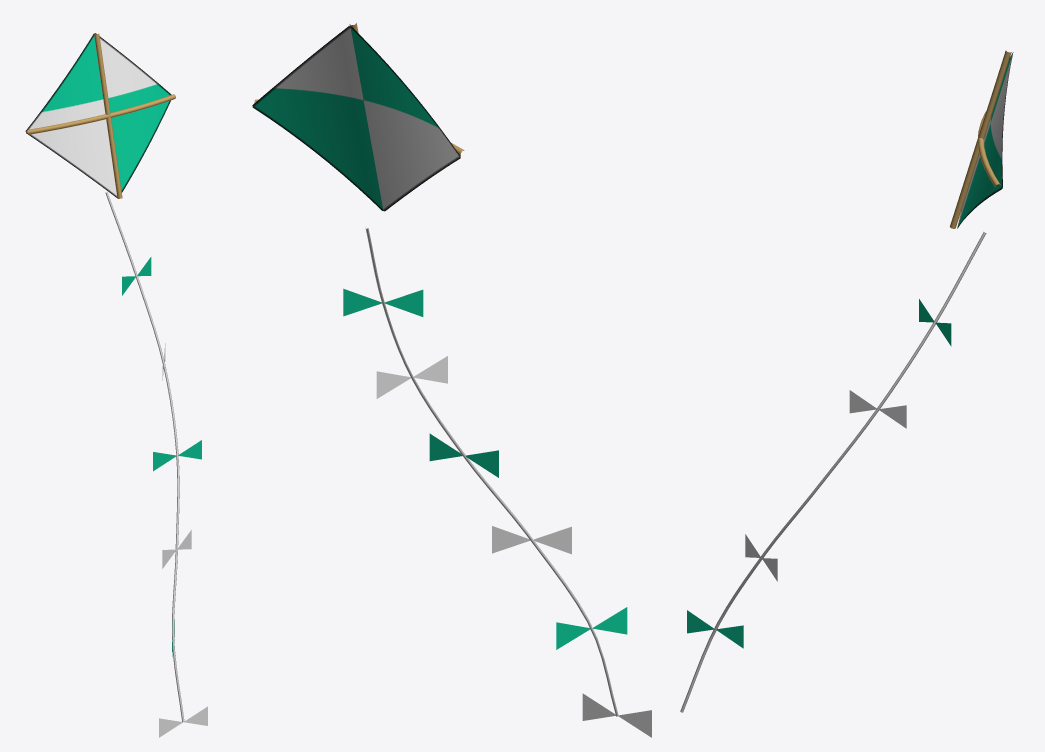
The model's file is capucheta-2.glb.
3 renders of one model, left to right at view 1: azimuth 30°, elevation 25°; view 2: azimuth 150°, elevation 25°; view 3: azimuth 270°, elevation 25°, orthographic. The views are drawn at different scales.
Visible parts, largest first — view 1: capucheta-2; view 2: capucheta-2; view 3: capucheta-2.
Part boxes in pixels (left/top/right/bottom): capucheta-2: left=25, top=33, right=207, bottom=737; capucheta-2: left=252, top=23, right=651, bottom=737; capucheta-2: left=680, top=50, right=1013, bottom=712.
Size of the model in its own units: 0.7882 by 2.98 by 1.35.
5 materials, 1 textured.
